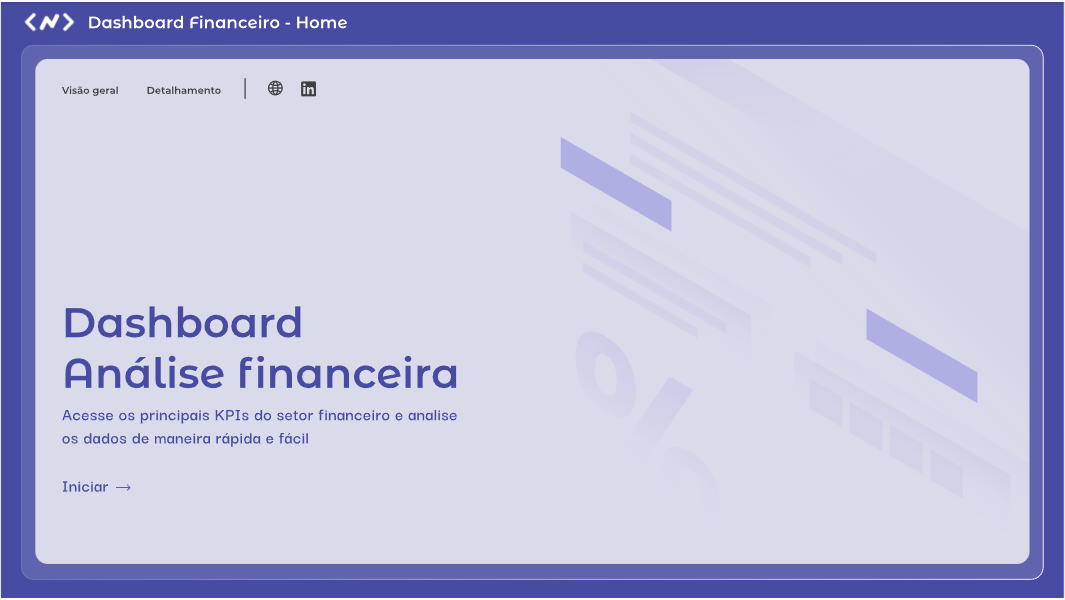

The page's visual inventory and layout, read from the dashboard file:
{"tool":"powerbi","page":{"name":"Home","canvas":[1280,720],"ordinal":2},"visuals":[{"type":"actionButton","box":[59.1,85.4,99.9,39.4],"z":0},{"type":"actionButton","box":[172.1,85.4,99.9,39.4],"z":1}]}

Visuals, with their boxes on the page's 1280x720 design canvas (x1, y1, x2, y2). These are canvas units, not pixel positions in the 1065x600 screenshot, which may show the page scaled, cropped or inside an application window:
actionButton: (left=59, top=85, right=159, bottom=125)
actionButton: (left=172, top=85, right=272, bottom=125)
